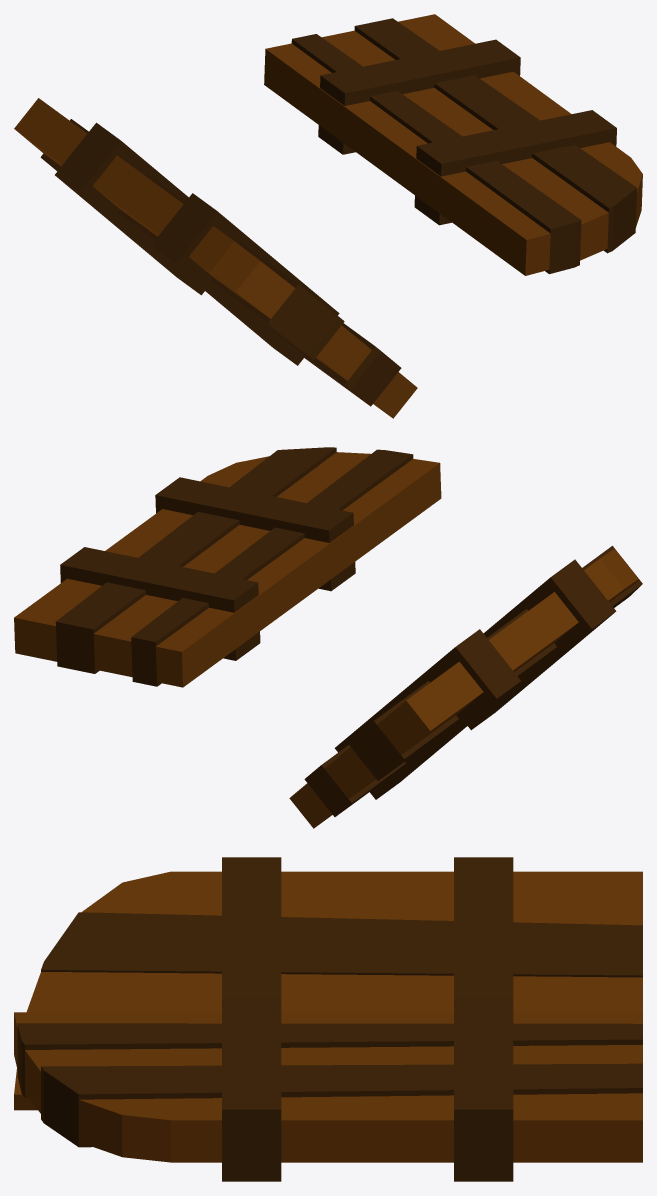
The model's file is door.gltf.
The picture shows the model from 3 angles, top to bottom: view 1: azimuth 30°, elevation 25°; view 2: azimuth 150°, elevation 25°; view 3: azimuth 270°, elevation 25°; orthographic projection. The views are drawn at different scales.
Visible parts, largest first — view 1: Cube; view 2: Cube; view 3: Cube.
Boxes of the visible parts, x1,y1,x2,y2 form: Cube: [14, 14, 642, 418]; Cube: [14, 447, 642, 828]; Cube: [14, 857, 642, 1181].
Bounding box in the file's own units: 2.6 × 0.9823 × 2.66.
1 material, 1 textured.
